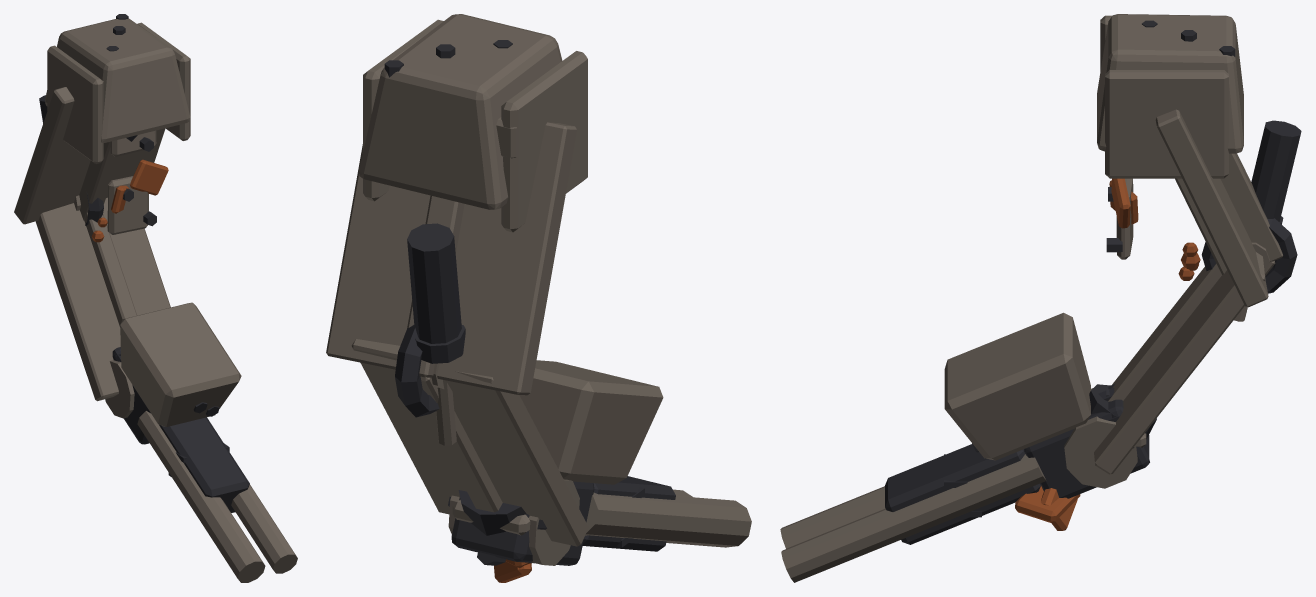
File: ar_scatter.glb
3 renders of one model, left to right at view 1: azimuth 30°, elevation 25°; view 2: azimuth 150°, elevation 25°; view 3: azimuth 270°, elevation 25°, orthographic. The views are drawn at different scales.
Parts seen in each view (by area): view 1: ar_scatter; view 2: ar_scatter; view 3: ar_scatter.
Part boxes in pixels (left/top/right/bottom): ar_scatter: left=14, top=14, right=297, bottom=582; ar_scatter: left=326, top=14, right=751, bottom=582; ar_scatter: left=780, top=14, right=1301, bottom=582.
Bounding box in the file's own units: 0.1331 × 0.4239 × 0.3669.
